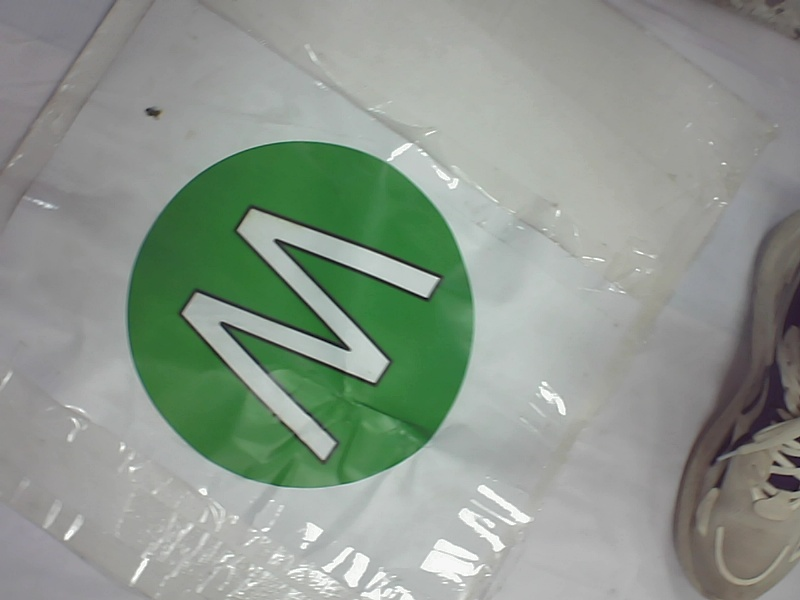areaB: (106, 123, 485, 492)
